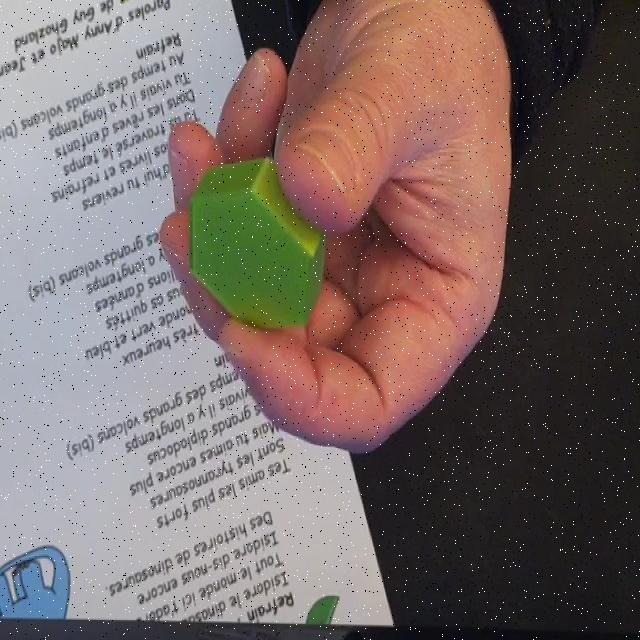hexagon: (190, 158, 324, 330)
